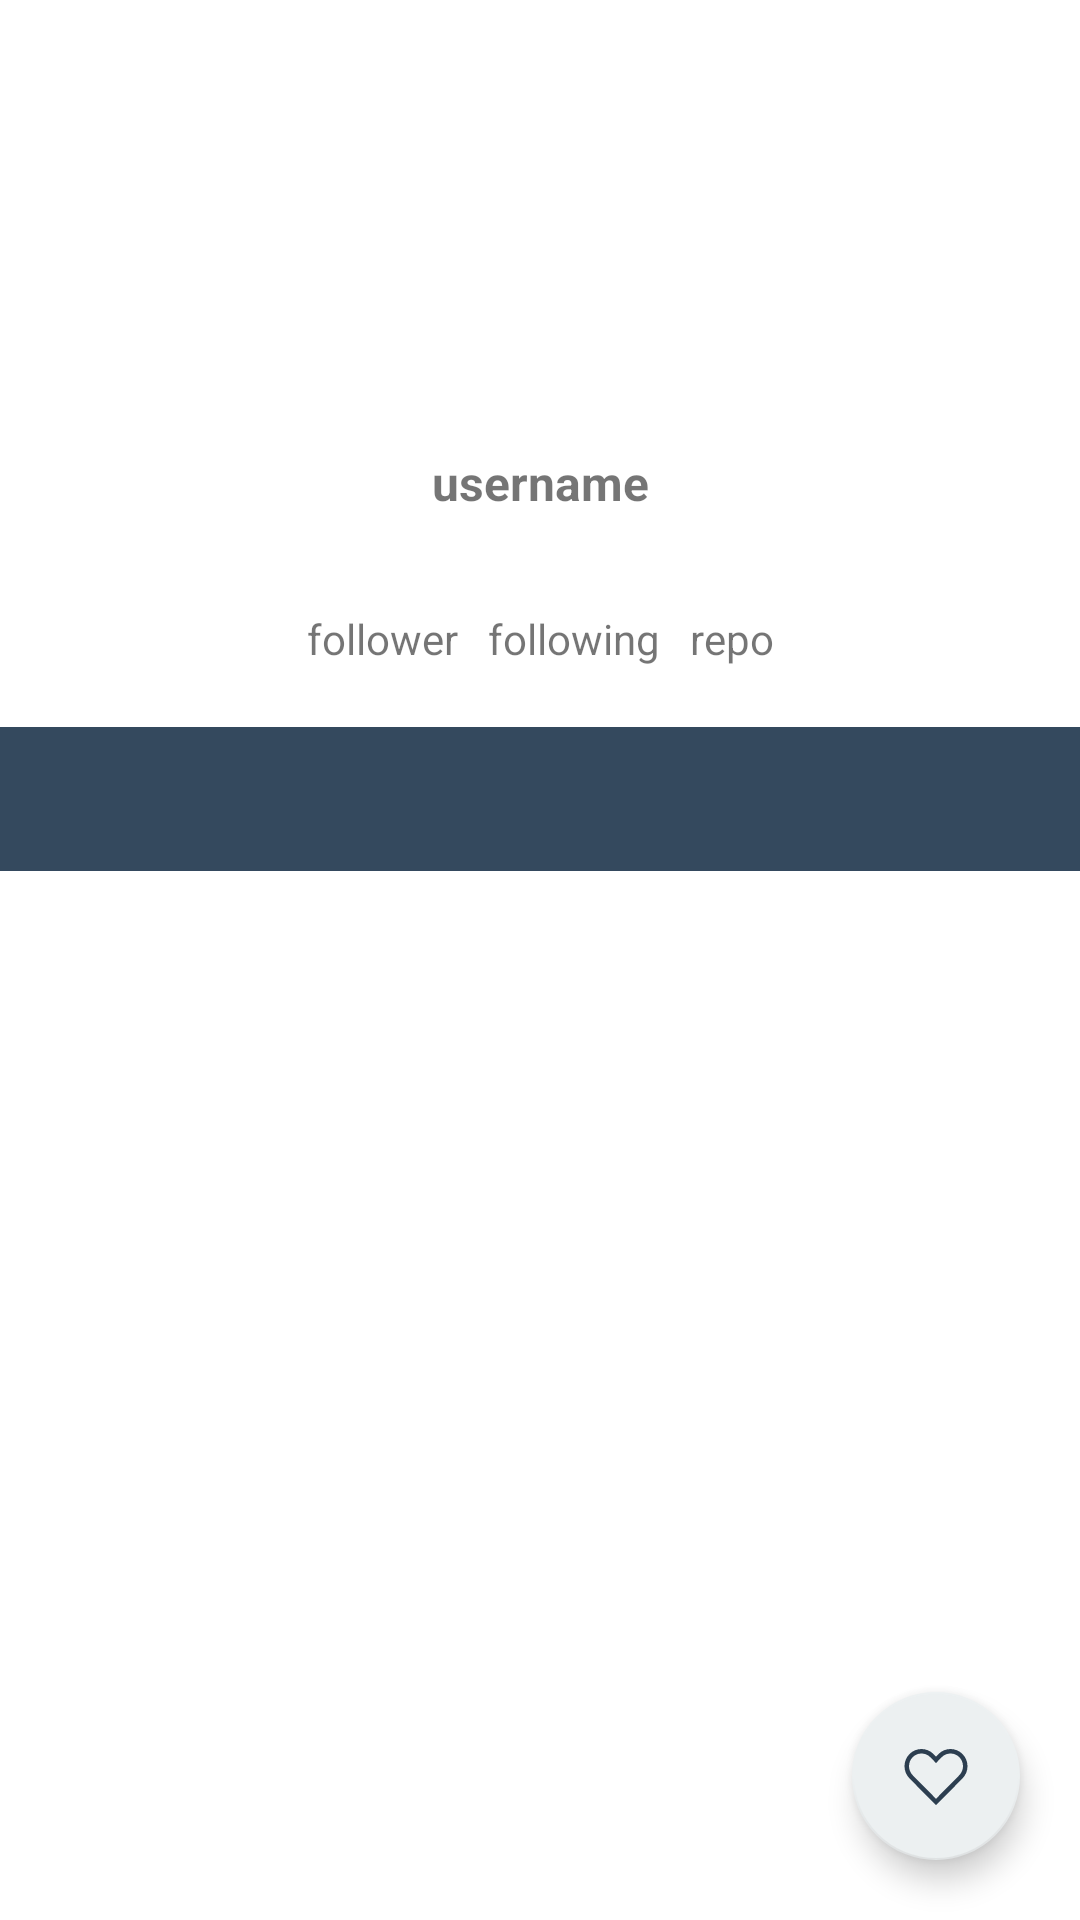

Named icons in this screenshot (1080 x 1920) and their bounding boxes, (x1,y1,x2,y2):
add user to favorite: (852,1692,1020,1860)
